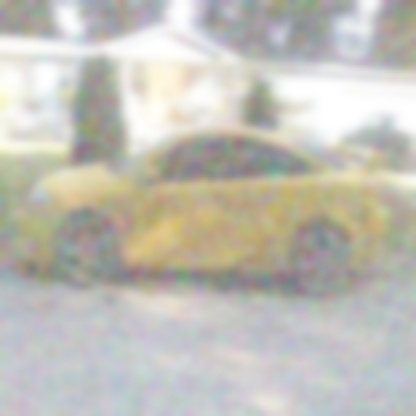Vehicle: (15, 122, 390, 300)
